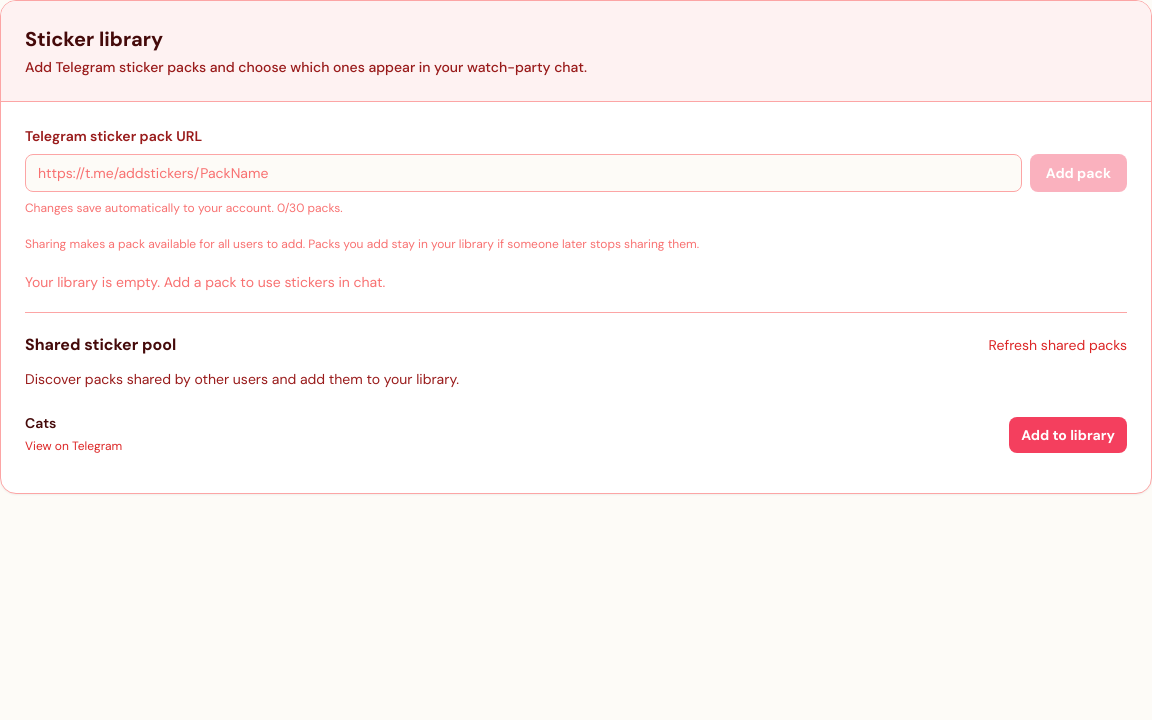
Test: profile sticker library › adds a shared pack to the personal library without opting into resharing
The image size is (1152, 720).
What coordinates should you click on to do the following:
click the button with aria-label "Add Cats to library"
I would click on:
 (1068, 435)
Its box is [1009,417,1127,453].
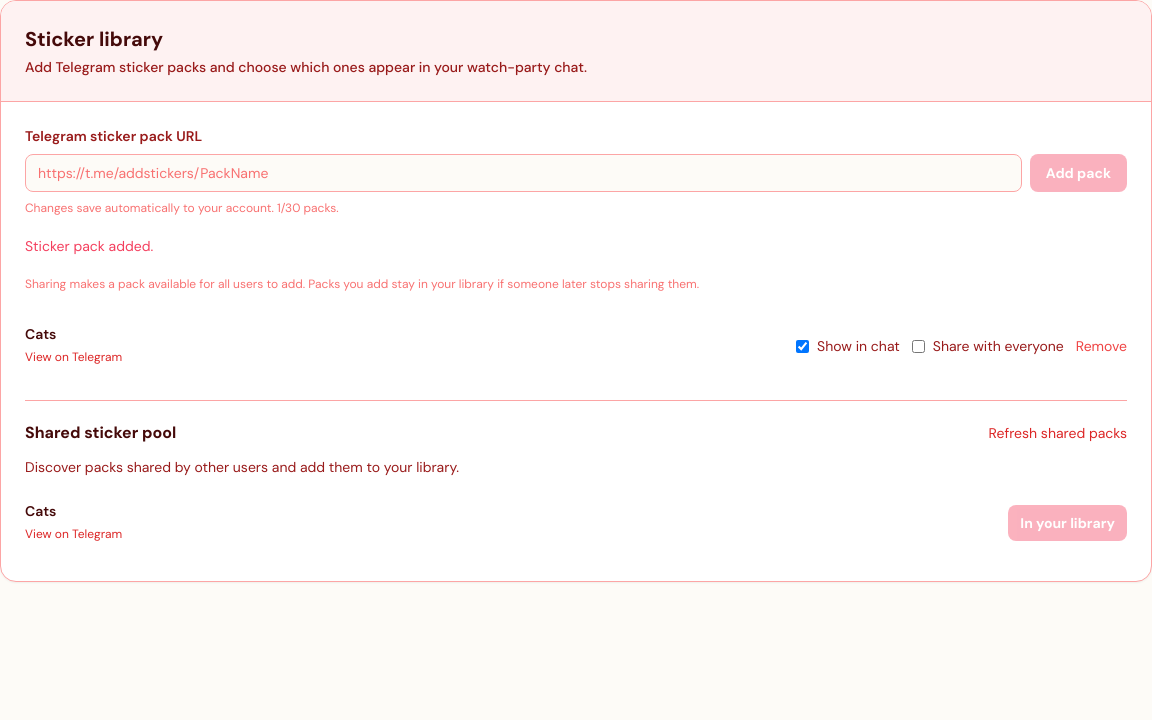
Expected: the button with aria-label "Add Cats to library" is disabled, [1008,505,1127,541]
Expected: the checkbox named "Share Cats with everyone" is not checked, [912,340,925,352]
